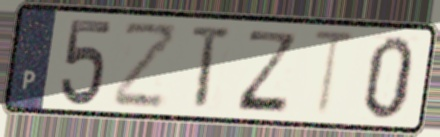0: (361, 33, 418, 122)
5: (56, 15, 116, 107)
T: (309, 26, 360, 122), (188, 22, 235, 114)
Z: (111, 21, 182, 111), (233, 27, 301, 116)
